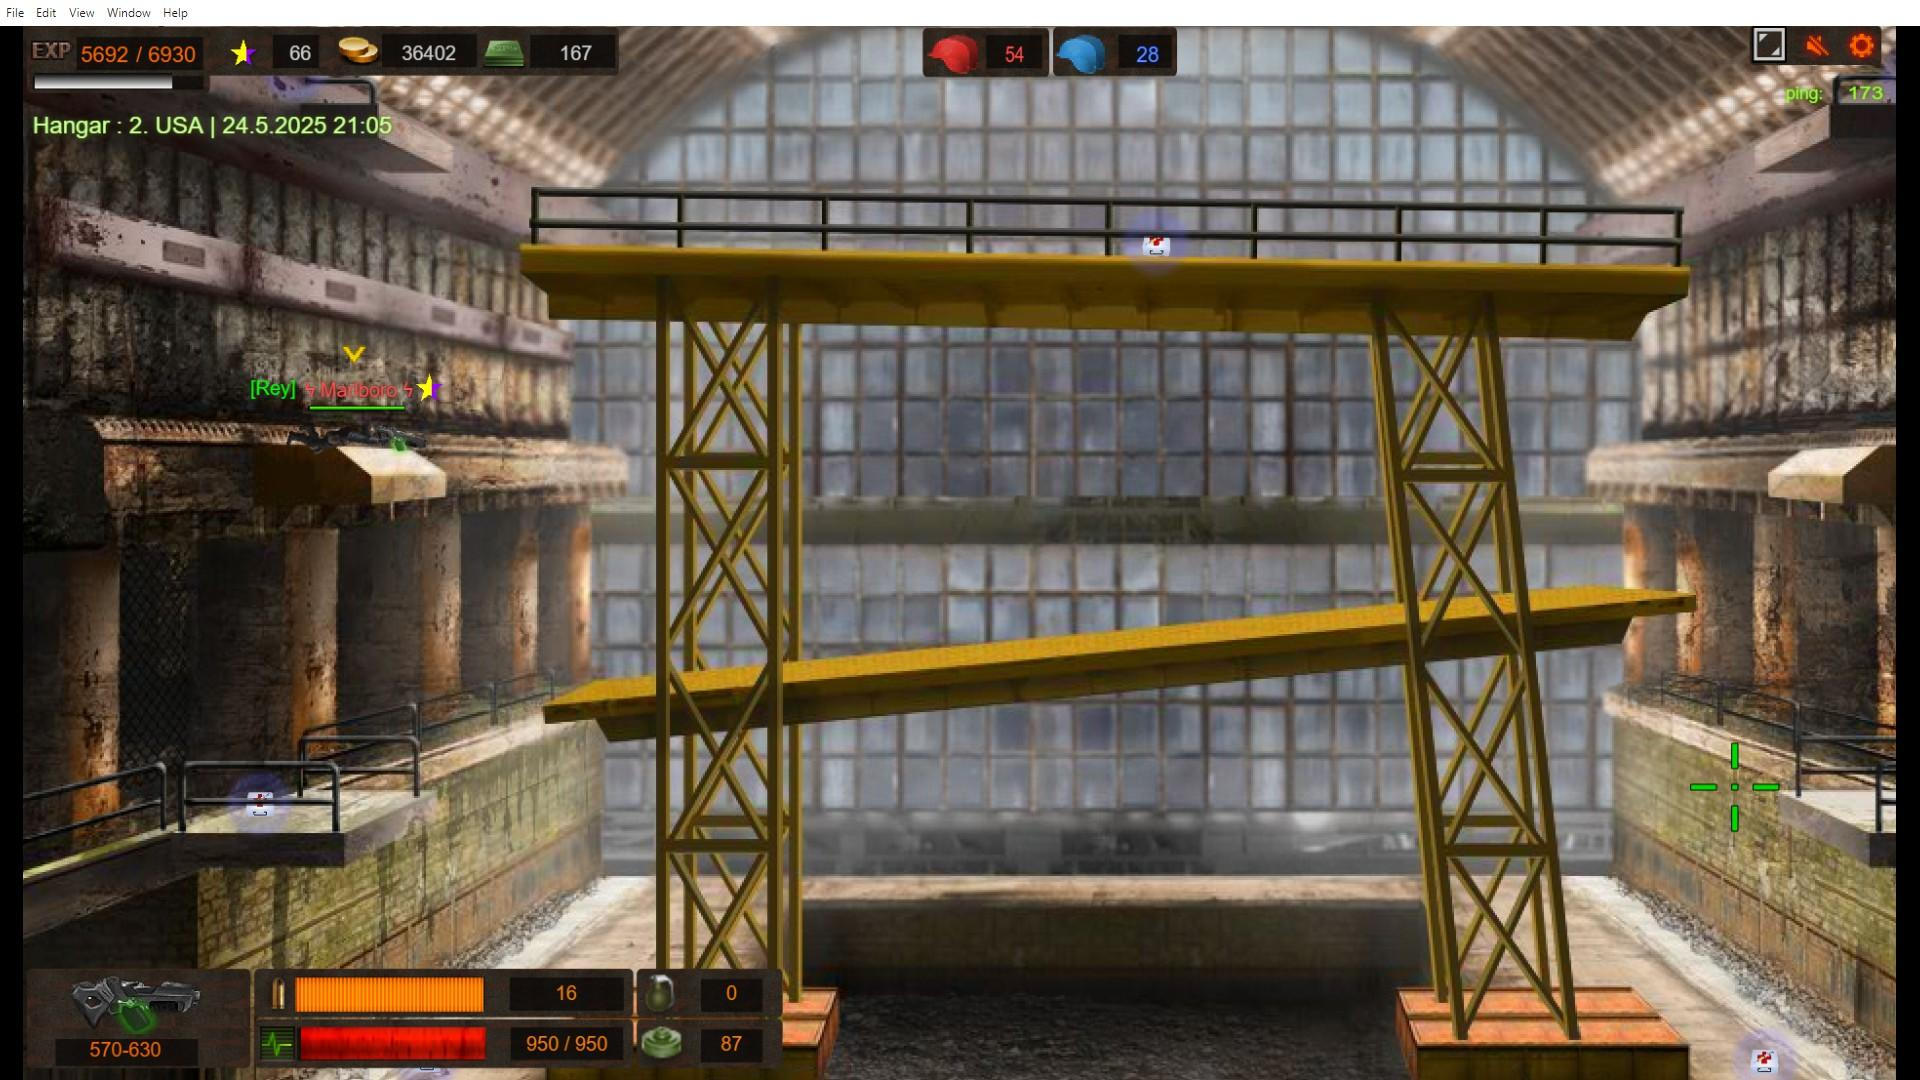enemy: (290, 425, 380, 448)
